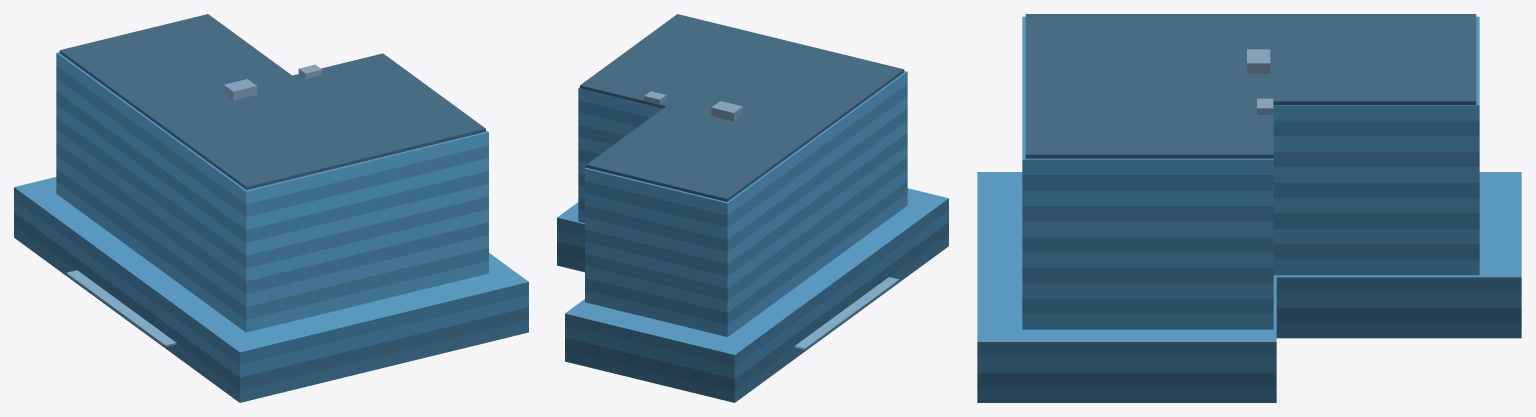
3 views of the same model, side by side, from view 1: azimuth 30°, elevation 25°; view 2: azimuth 150°, elevation 25°; view 3: azimuth 270°, elevation 25° (orthographic). The views are drawn at different scales.
Parts seen in each view (by area): view 1: shell; view 2: shell; view 3: shell.
Boxes of the visible parts, box(x1,y1,x2,y2) form: shell: box(14, 14, 528, 402); shell: box(557, 14, 948, 402); shell: box(977, 14, 1521, 402).
Size of the model in its own units: 88.2 by 57.2 by 115.
